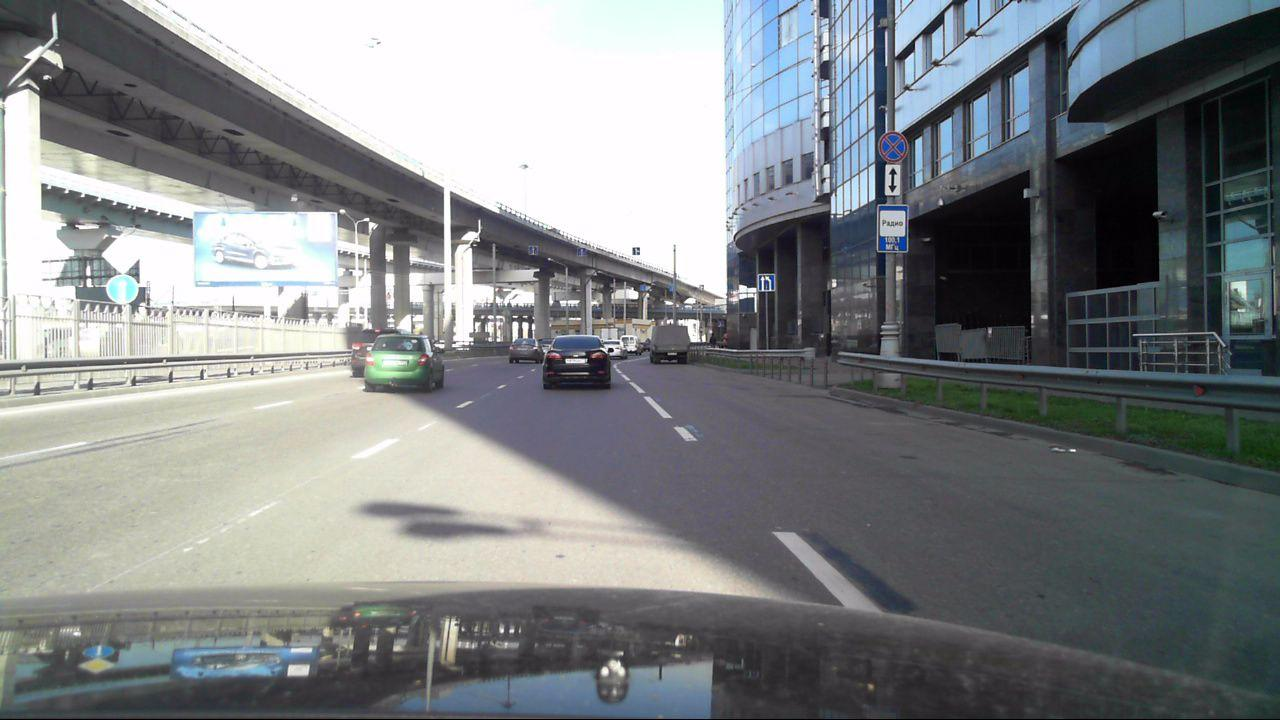2_1: (103, 233, 145, 273)
3_27: (878, 131, 908, 164)
4_1_1: (105, 275, 139, 305)
5_15_2: (527, 244, 539, 256), (577, 247, 588, 256), (632, 247, 641, 256), (670, 283, 677, 292), (640, 284, 647, 292)
5_15_5: (758, 273, 775, 291)
7_15: (877, 204, 911, 252)
8_2_4: (884, 164, 901, 196)
